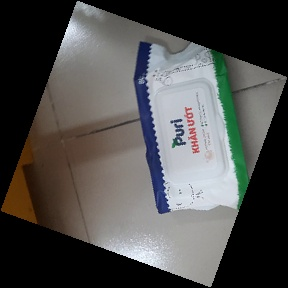Puri Trang: (133, 38, 253, 213)
